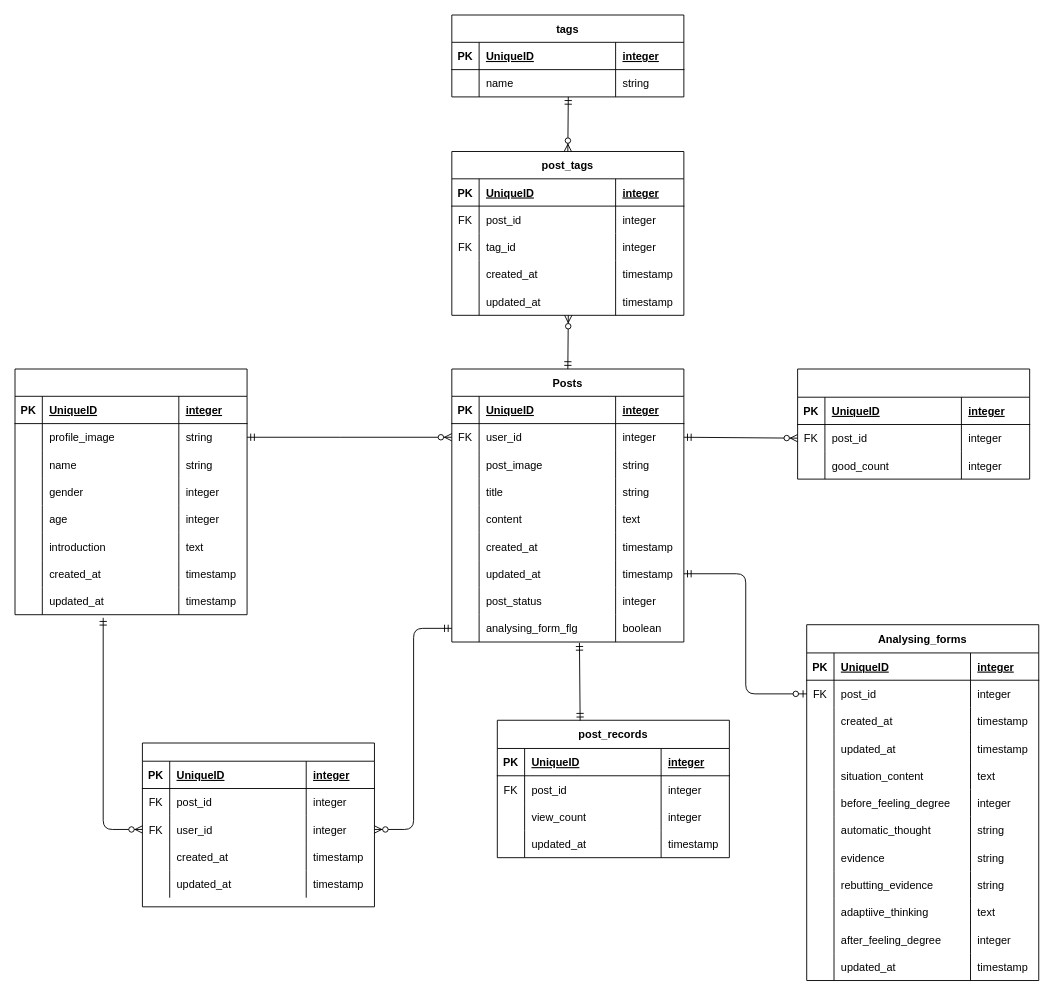
Image size: 1054x996. Some labels were removed from this diagram. Each missing label, with the box of its shape:
bookmarks: (142, 742, 374, 907)
post_stamps: (797, 368, 1030, 479)
Users: (14, 368, 247, 615)
